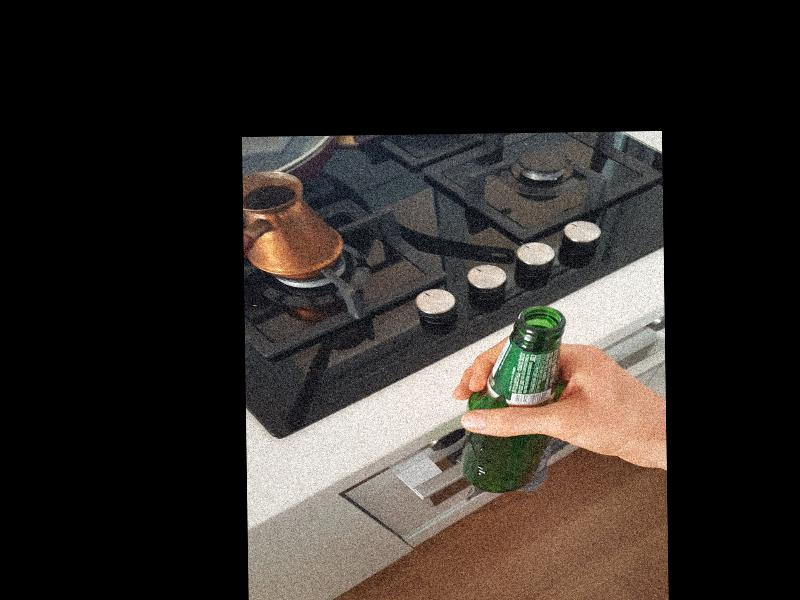Beer: (460, 305, 567, 494)
